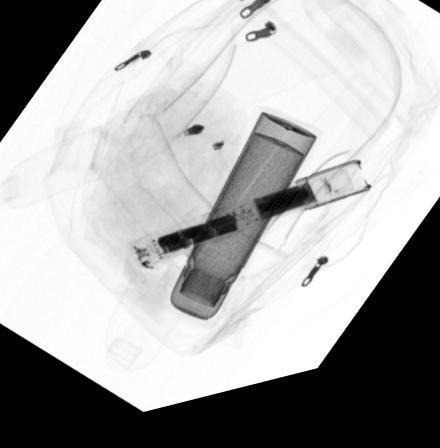Baton: (123, 175, 374, 275)
